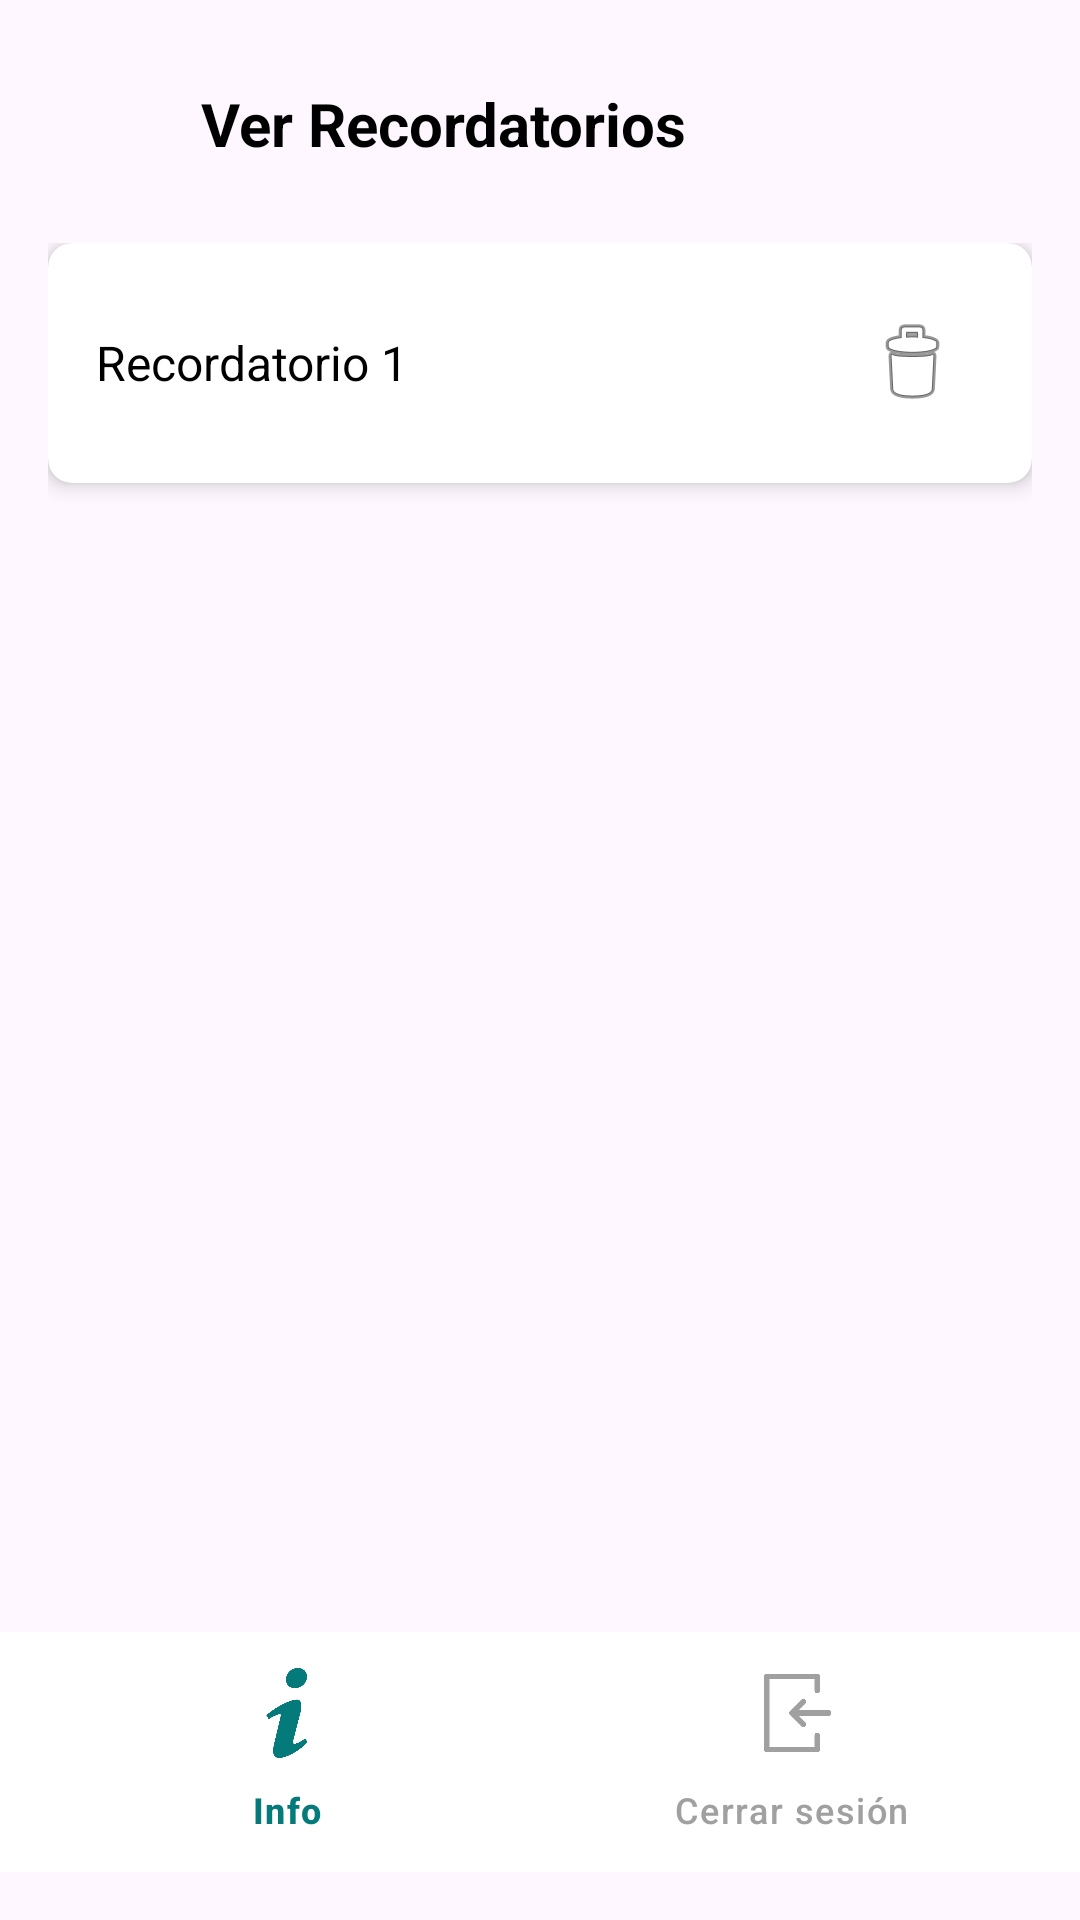

Named icons in this screenshot (1080px x 1920px) and their centers, (x,y):
Eliminar Recordatorio: (912,361)
